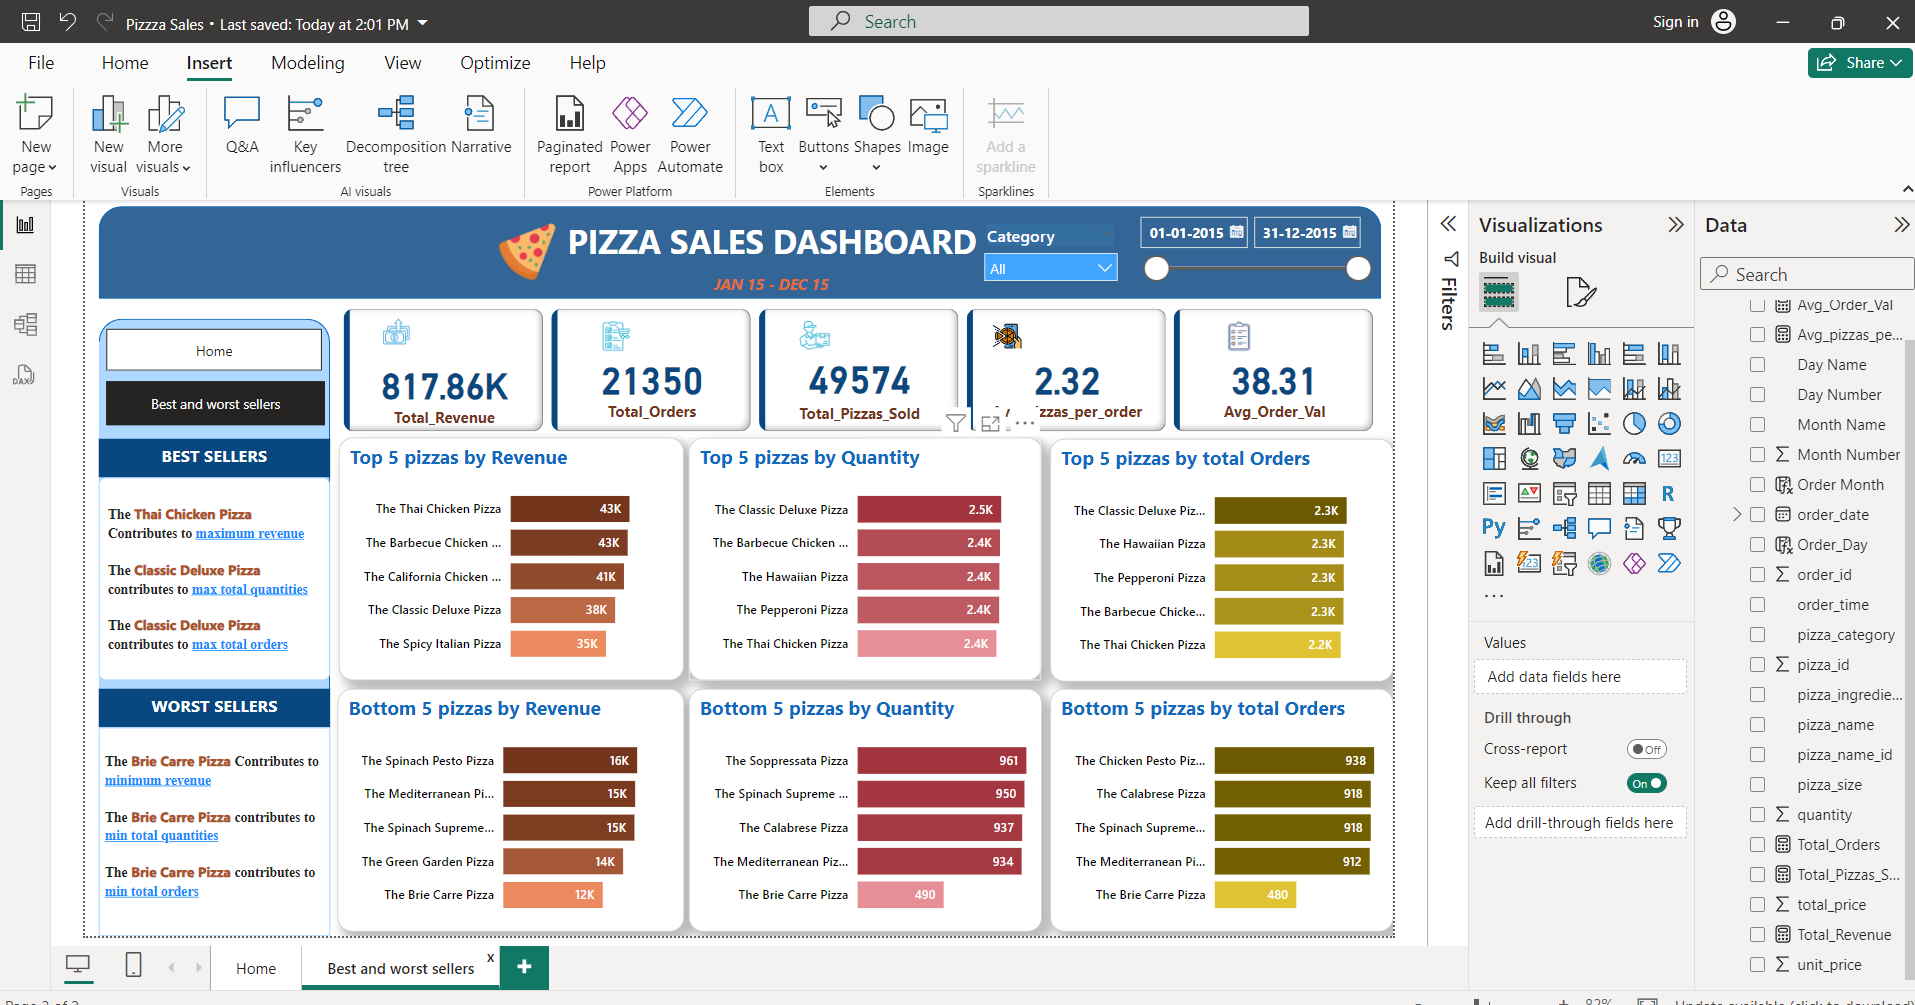

This screenshot's page, from the dashboard's own definition file:
{"tool":"powerbi","page":{"name":"Best and worst sellers","canvas":[1280,720],"ordinal":1},"visuals":[{"type":"shape","box":[13.5,116.2,226.2,604.1],"z":0},{"type":"cardVisual","fields":{"Data":["pizza_sales.Total_Revenue","pizza_sales.Total_Orders","pizza_sales.Total_Pizzas_Sold","pizza_sales.Avg_pizzas_per_order","pizza_sales.Avg_Order_Val"]},"box":[248.2,101.5,1018.6,130.8],"z":1000},{"type":"shape","box":[13.5,6.1,1254.6,90.5],"z":2000},{"type":"textbox","box":[467.5,13.8,422.5,53.8],"z":3000},{"type":"image","box":[397.5,17.5,70,67.5],"z":4000},{"type":"textbox","box":[610,67.5,145,33.8],"z":5000},{"type":"textbox","box":[13.5,233.6,226.2,37.9],"z":11000},{"type":"textbox","box":[13.5,271.5,226.2,198.1],"z":12000},{"type":"textbox","box":[13.5,478.1,226.2,37.9],"z":13000},{"type":"textbox","box":[13.5,516,226.2,204.2],"z":14000},{"type":"slicer","fields":{"Values":["pizza_sales.pizza_category"]},"box":[869.4,18.3,150.4,66],"z":15000},{"type":"slicer","fields":{"Values":["pizza_sales.order_date"]},"box":[1019.8,6.1,247,90.5],"z":16000},{"type":"barChart","title":"Top 5 pizzas by Revenue","fields":{"Category":["pizza_sales.pizza_name"],"Y":["pizza_sales.Total_Revenue"]},"box":[248.4,231.9,337.6,237.4],"z":16001},{"type":"barChart","title":"Bottom 5 pizzas by Revenue","fields":{"Category":["pizza_sales.pizza_name"],"Y":["pizza_sales.Total_Revenue"]},"box":[247,477.5,338.9,237.4],"z":16002},{"type":"barChart","title":"Top 5 pizzas by Quantity","fields":{"Category":["pizza_sales.pizza_name"],"Y":["pizza_sales.Total_Pizzas_Sold"]},"box":[590.1,231.9,345.8,237.4],"z":16003},{"type":"barChart","title":"Bottom 5 pizzas by Quantity","fields":{"Category":["pizza_sales.pizza_name"],"Y":["pizza_sales.Total_Pizzas_Sold"]},"box":[590.1,477.5,345.8,237.4],"z":16004},{"type":"barChart","title":"Top 5 pizzas by total Orders","fields":{"Category":["pizza_sales.pizza_name"],"Y":["pizza_sales.Total_Orders"]},"box":[944.1,233.3,336.2,237.4],"z":16005},{"type":"barChart","title":"Bottom 5 pizzas by total Orders","fields":{"Category":["pizza_sales.pizza_name"],"Y":["pizza_sales.Total_Orders"]},"box":[944.1,477.5,336.2,237.4],"z":16006},{"type":"pageNavigator","box":[20.6,126.2,211.3,41.2],"z":16007},{"type":"pageNavigator","box":[20.6,177,214.1,43.9],"z":16008}]}

Visuals, with their boxes on the page's 1280x720 design canvas (x1, y1, x2, y2). These are canvas units, not pixel positions in the 1915x1005 screenshot, which may show the page scaled, cropped or inside an application window:
shape: {"x1": 14, "y1": 116, "x2": 240, "y2": 720}
cardVisual - pizza_sales.Total_Revenue x pizza_sales.Total_Orders: {"x1": 248, "y1": 102, "x2": 1267, "y2": 232}
shape: {"x1": 14, "y1": 6, "x2": 1268, "y2": 97}
textbox: {"x1": 468, "y1": 14, "x2": 890, "y2": 68}
image: {"x1": 398, "y1": 18, "x2": 468, "y2": 85}
textbox: {"x1": 610, "y1": 68, "x2": 755, "y2": 101}
textbox: {"x1": 14, "y1": 234, "x2": 240, "y2": 272}
textbox: {"x1": 14, "y1": 272, "x2": 240, "y2": 470}
textbox: {"x1": 14, "y1": 478, "x2": 240, "y2": 516}
textbox: {"x1": 14, "y1": 516, "x2": 240, "y2": 720}
slicer - pizza_sales.pizza_category: {"x1": 869, "y1": 18, "x2": 1020, "y2": 84}
slicer - pizza_sales.order_date: {"x1": 1020, "y1": 6, "x2": 1267, "y2": 97}
"Top 5 pizzas by Revenue" barChart: {"x1": 248, "y1": 232, "x2": 586, "y2": 469}
"Bottom 5 pizzas by Revenue" barChart: {"x1": 247, "y1": 478, "x2": 586, "y2": 715}
"Top 5 pizzas by Quantity" barChart: {"x1": 590, "y1": 232, "x2": 936, "y2": 469}
"Bottom 5 pizzas by Quantity" barChart: {"x1": 590, "y1": 478, "x2": 936, "y2": 715}
"Top 5 pizzas by total Orders" barChart: {"x1": 944, "y1": 233, "x2": 1280, "y2": 471}
"Bottom 5 pizzas by total Orders" barChart: {"x1": 944, "y1": 478, "x2": 1280, "y2": 715}
pageNavigator: {"x1": 21, "y1": 126, "x2": 232, "y2": 167}
pageNavigator: {"x1": 21, "y1": 177, "x2": 235, "y2": 221}
